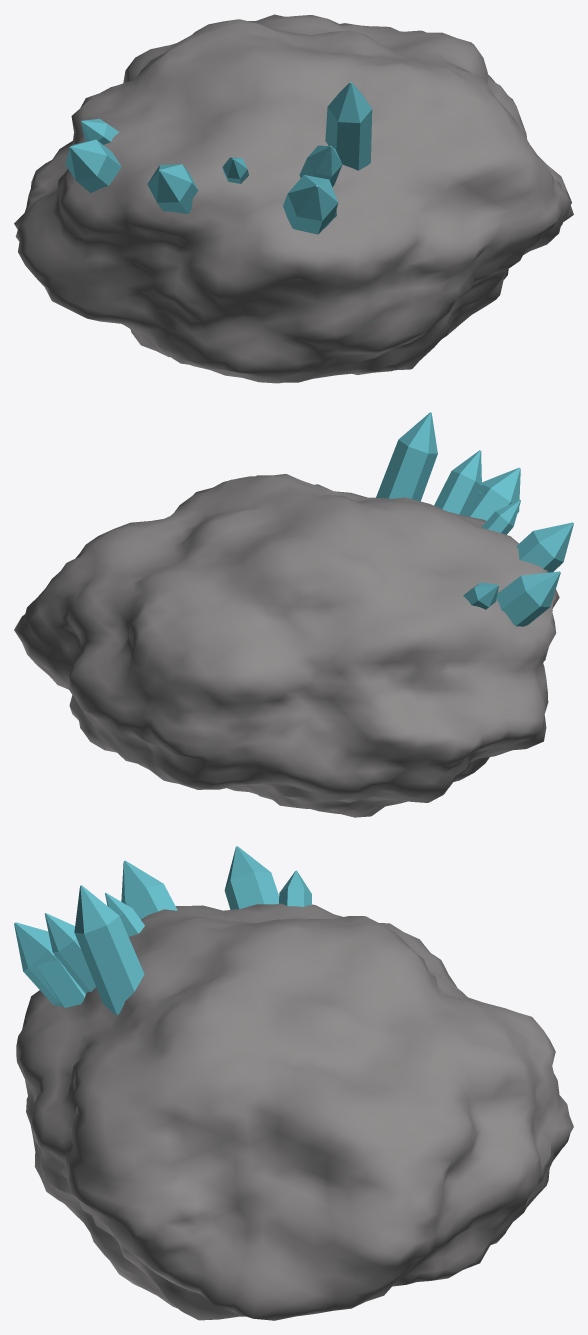
The model's file is apatite_surface.glb.
The picture shows the model from 3 angles, top to bottom: view 1: azimuth 30°, elevation 25°; view 2: azimuth 150°, elevation 25°; view 3: azimuth 270°, elevation 25°; orthographic projection. The views are drawn at different scales.
Parts seen in each view (by area): view 1: apatite_surface; view 2: apatite_surface; view 3: apatite_surface.
Part boxes in pixels (<box>): apatite_surface: <box>14,14,573,383</box>; apatite_surface: <box>14,412,573,817</box>; apatite_surface: <box>14,846,573,1320</box>.
Bounding box in the file's own units: 1.57 × 1.01 × 1.35.
